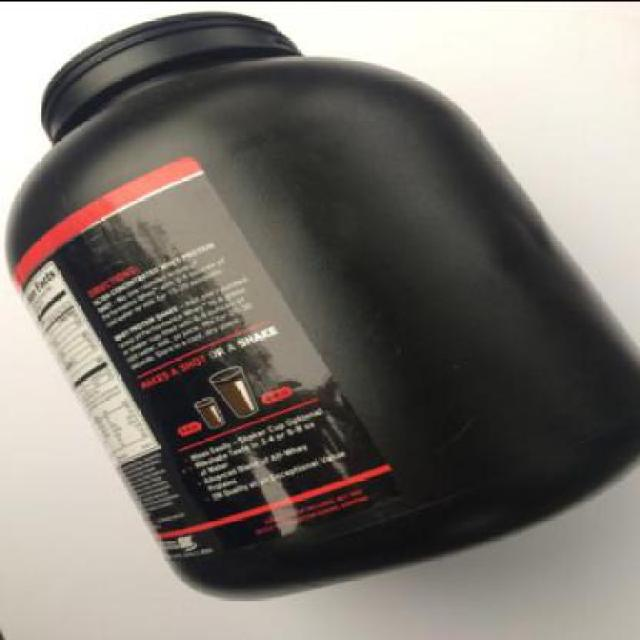PLASTIC: (6, 9, 639, 598)
